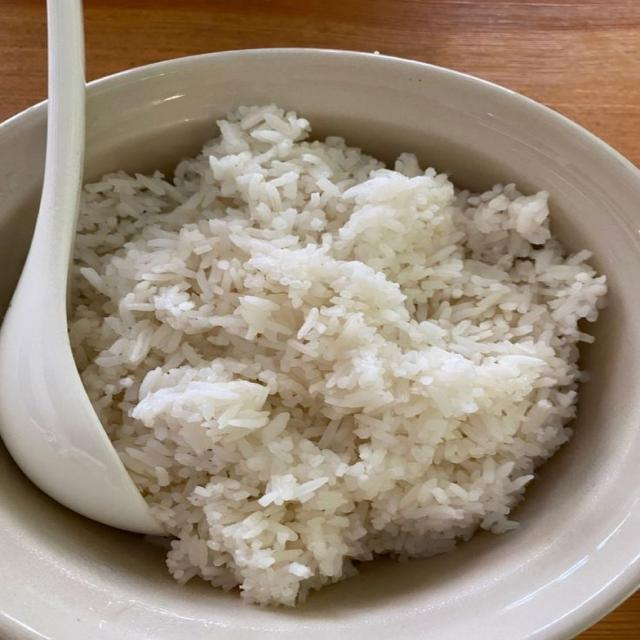rice: (70, 106, 605, 604)
